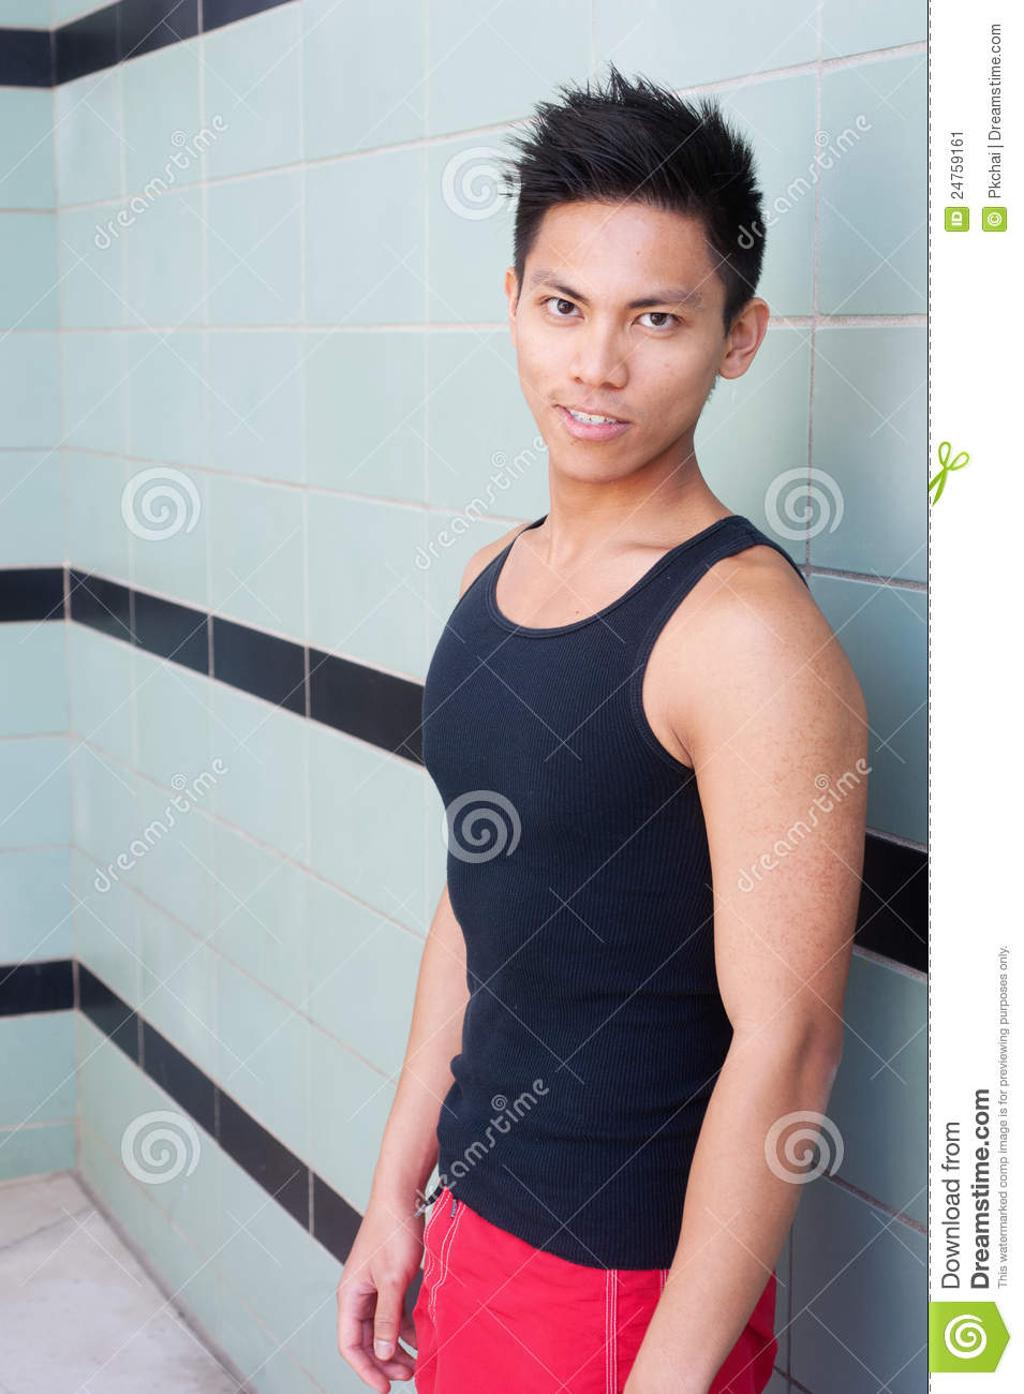face: (523, 226, 722, 471)
